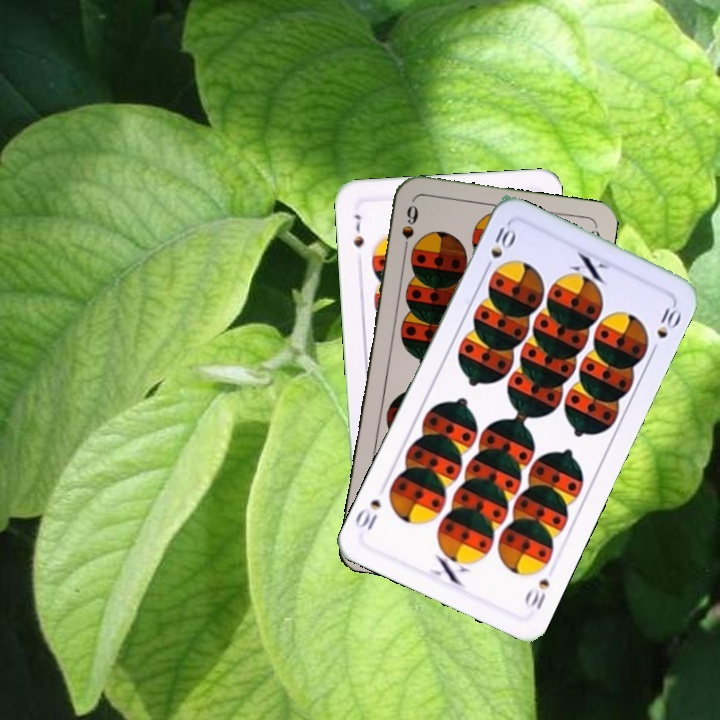S10: (480, 220, 518, 275), (520, 575, 552, 613)
S7: (349, 210, 367, 250)
S9: (397, 201, 421, 258)
